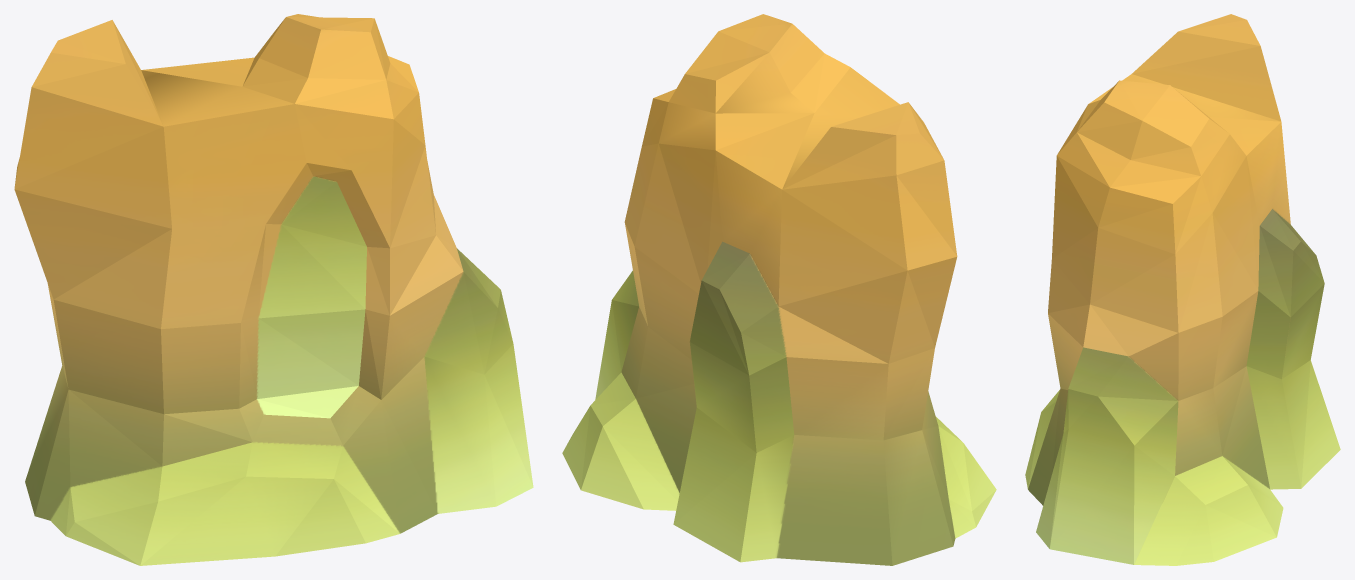
Rendered from SM_APP_Gas_Cliff_D.glb.
3 renders of one model, left to right at view 1: azimuth 30°, elevation 25°; view 2: azimuth 150°, elevation 25°; view 3: azimuth 270°, elevation 25°, orthographic. The views are drawn at different scales.
Parts seen in each view (by area): view 1: SM_APP_Gas_Cliff_D; view 2: SM_APP_Gas_Cliff_D; view 3: SM_APP_Gas_Cliff_D.
Boxes of the visible parts, left/top/right/bottom form: SM_APP_Gas_Cliff_D: left=14, top=14, right=533, bottom=565; SM_APP_Gas_Cliff_D: left=562, top=14, right=996, bottom=565; SM_APP_Gas_Cliff_D: left=1025, top=14, right=1340, bottom=565.
Size of the model in its own units: 34.19 by 34.26 by 24.41.
Materials: 1 (1 with a texture image).
